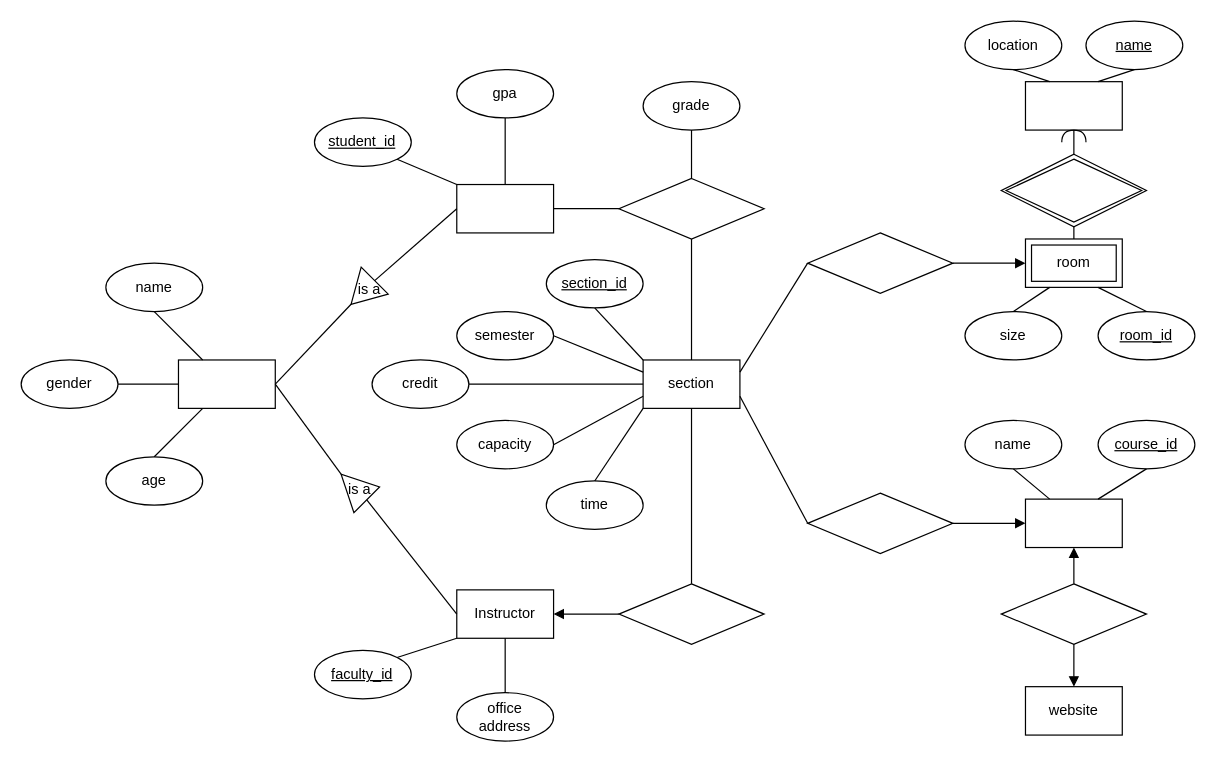
Some shapes in this 1216 by 762 pixel diagram are drawn without their labels. The centre of each missing label's shape, as x and y in pixels:
affiliation: the point at 1073,190
building: the point at 1073,105
course: the point at 1073,523
enroll: the point at 691,208
has: the point at 879,523
link: the point at 1073,613
located: the point at 879,262
Person: the point at 226,383
student: the point at 505,208
teach: the point at 691,613
